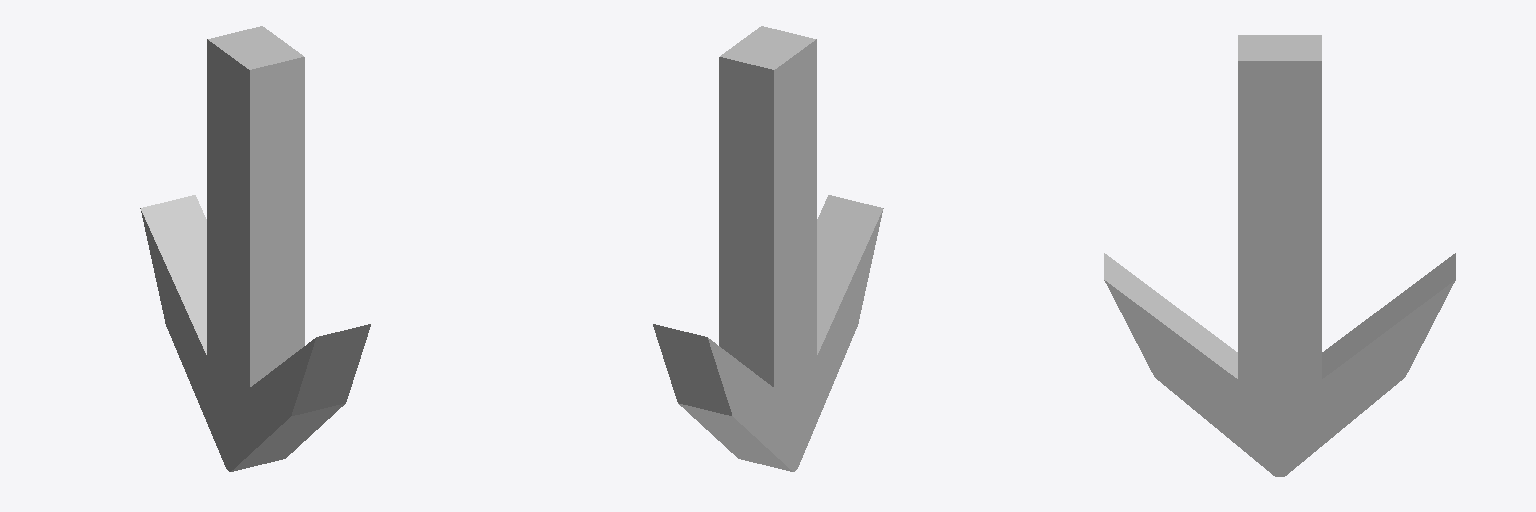
Rendered from pijl.obj.
3 renders of one model, left to right at view 1: azimuth 30°, elevation 25°; view 2: azimuth 150°, elevation 25°; view 3: azimuth 270°, elevation 25°, orthographic.
Parts seen in each view (by area): view 1: Cube; view 2: Cube; view 3: Cube.
Boxes of the visible parts, <box> form: Cube: <box>140,26,370,471</box>; Cube: <box>653,26,883,471</box>; Cube: <box>1104,35,1455,476</box>.
Size of the model in its own units: 0.3087 by 2.23 by 1.71.